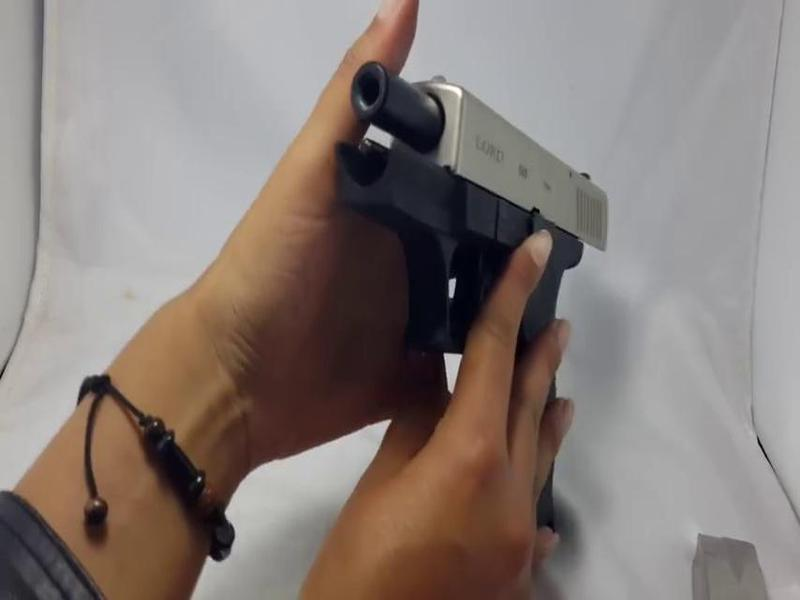Pistola: (286, 57, 636, 535)
